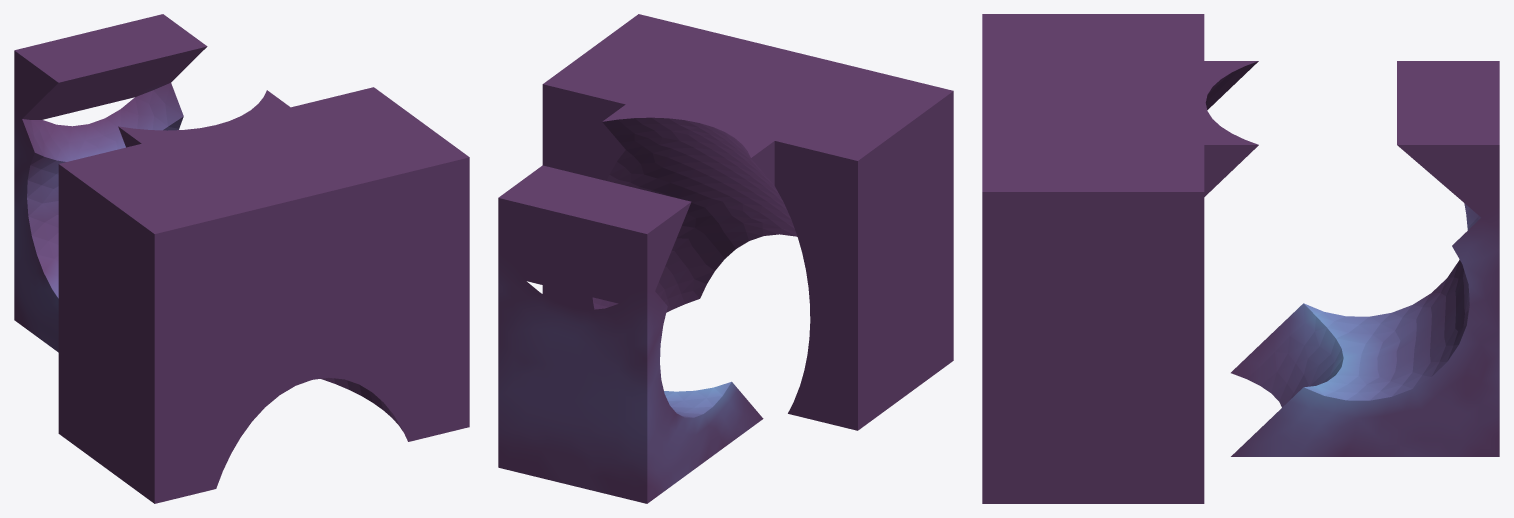
File: CAD_LG-SKCL.glb
3 views of the same model, side by side, from view 1: azimuth 30°, elevation 25°; view 2: azimuth 150°, elevation 25°; view 3: azimuth 270°, elevation 25° (orthographic). The views are drawn at different scales.
Parts seen in each view (by area): view 1: geometry_0; view 2: geometry_0; view 3: geometry_0.
Boxes of the visible parts, x1=… form: geometry_0: x1=14, y1=14, x2=469, y2=503; geometry_0: x1=498, y1=14, x2=953, y2=503; geometry_0: x1=982, y1=14, x2=1499, y2=503.
Bounding box in the file's own units: 0.11 × 0.09 × 0.1352.
